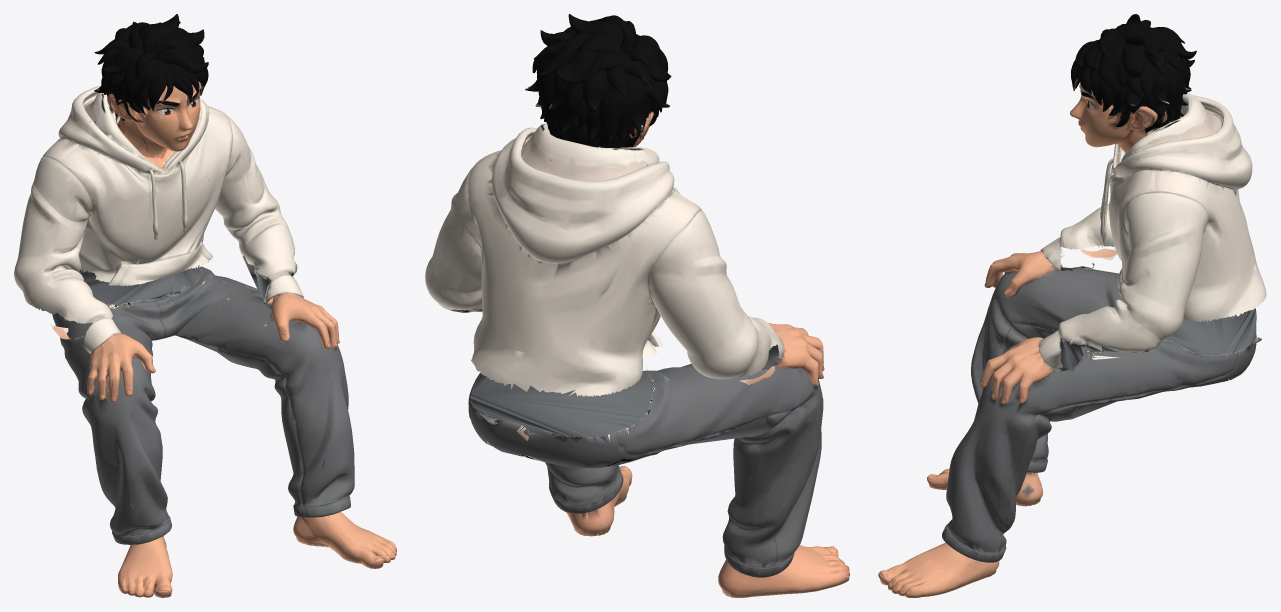
The picture shows the model from 3 angles, left to right: view 1: azimuth 30°, elevation 25°; view 2: azimuth 150°, elevation 25°; view 3: azimuth 270°, elevation 25°; orthographic projection. The views are drawn at different scales.
Parts seen in each view (by area): view 1: CH_TVResident; view 2: CH_TVResident; view 3: CH_TVResident.
Part boxes in pixels (x1,y1,x2,y2): CH_TVResident: [14, 14, 396, 597]; CH_TVResident: [425, 14, 849, 597]; CH_TVResident: [878, 14, 1266, 597].
Bounding box in the file's own units: 0.6674 × 1.17 × 0.8115.
Materials: 2 (1 with a texture image).
